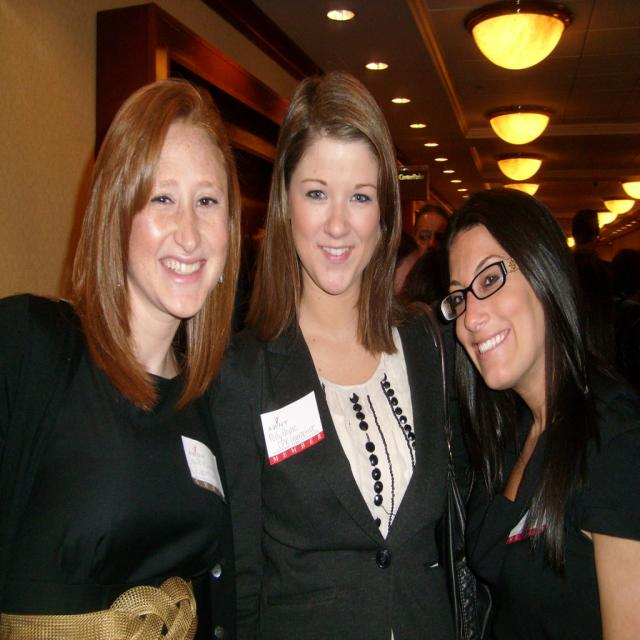Glasses: (450, 265, 534, 317)
